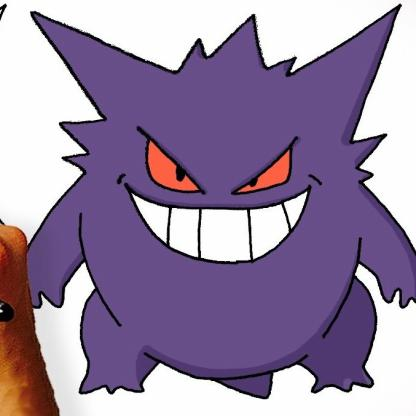Gengar: (28, 1, 416, 410)
